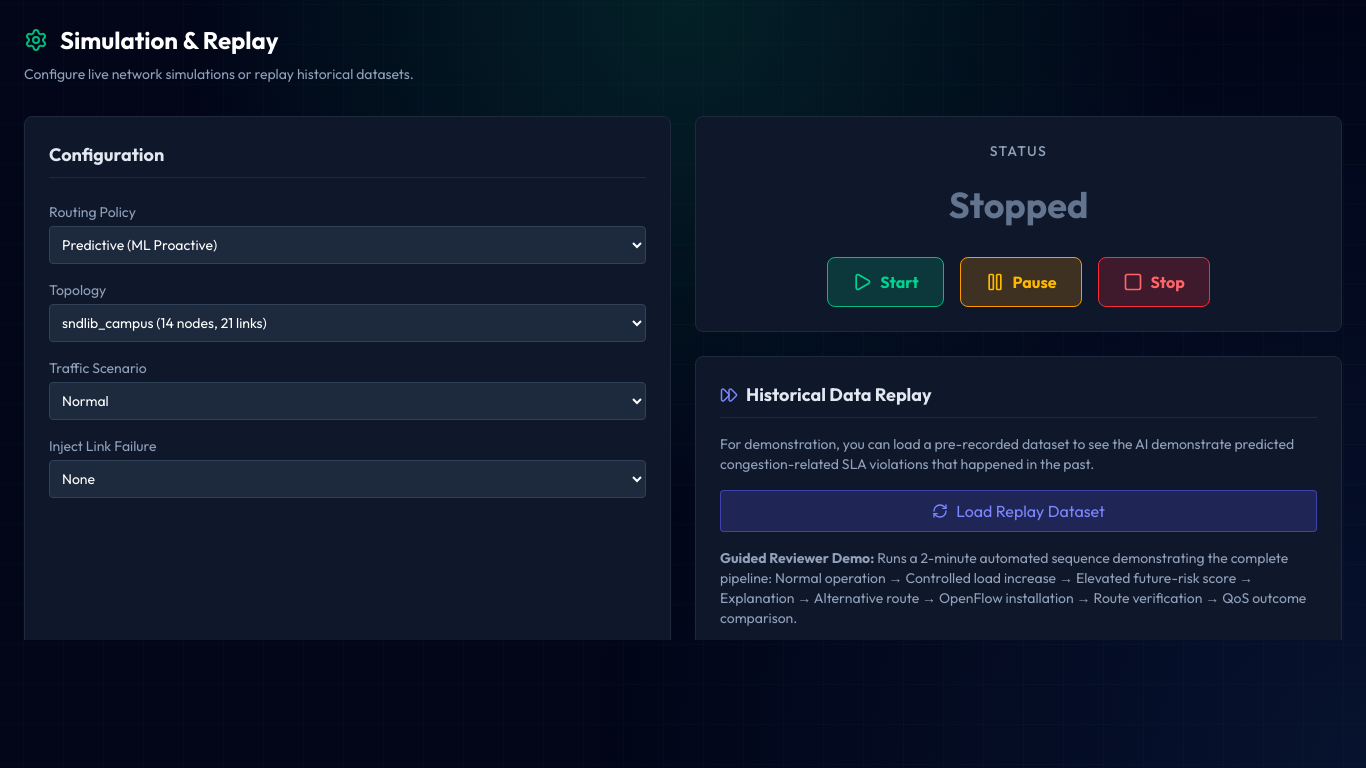
it: ExperimentControl Component › handles startExperiment failure gracefully
Step 1. Click the button "Start" → point(885, 282), box 827,257 -> 944,307
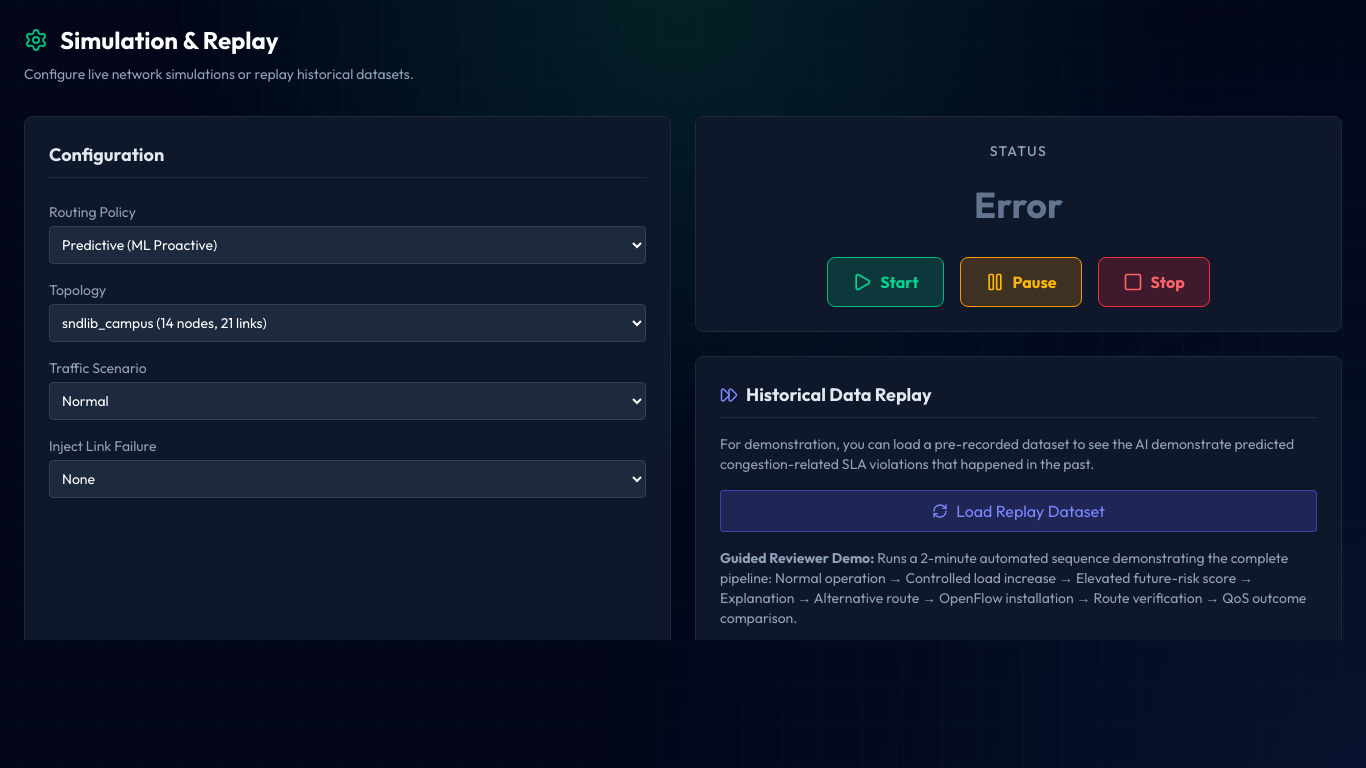
Expected: the text "Error" is shown, 974,185 -> 1063,225
